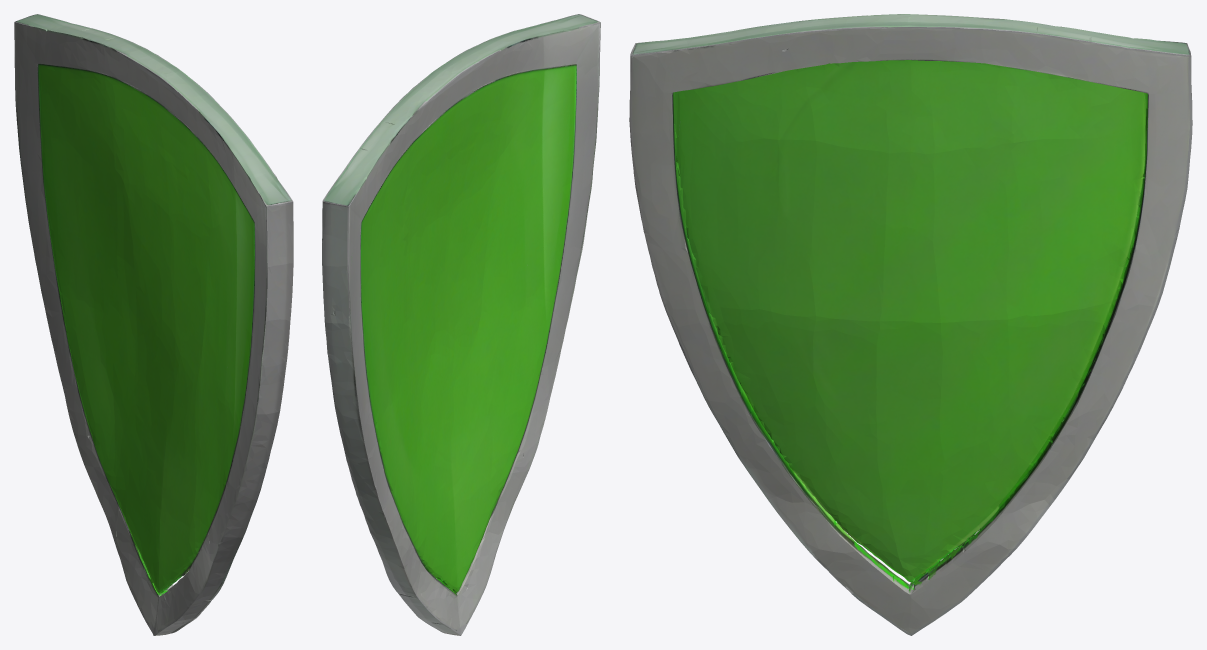
The model's file is shield.fbx.
The picture shows the model from 3 angles, left to right: view 1: azimuth 30°, elevation 25°; view 2: azimuth 150°, elevation 25°; view 3: azimuth 270°, elevation 25°; orthographic projection. The views are drawn at different scales.
Parts seen in each view (by area): view 1: temp; view 2: temp; view 3: temp.
Part boxes in pixels (x1=…): temp: x1=14, y1=14, x2=293, y2=635; temp: x1=322, y1=14, x2=600, y2=635; temp: x1=629, y1=14, x2=1192, y2=635.
Bounding box in the file's own units: 16.56 × 200 × 166.
